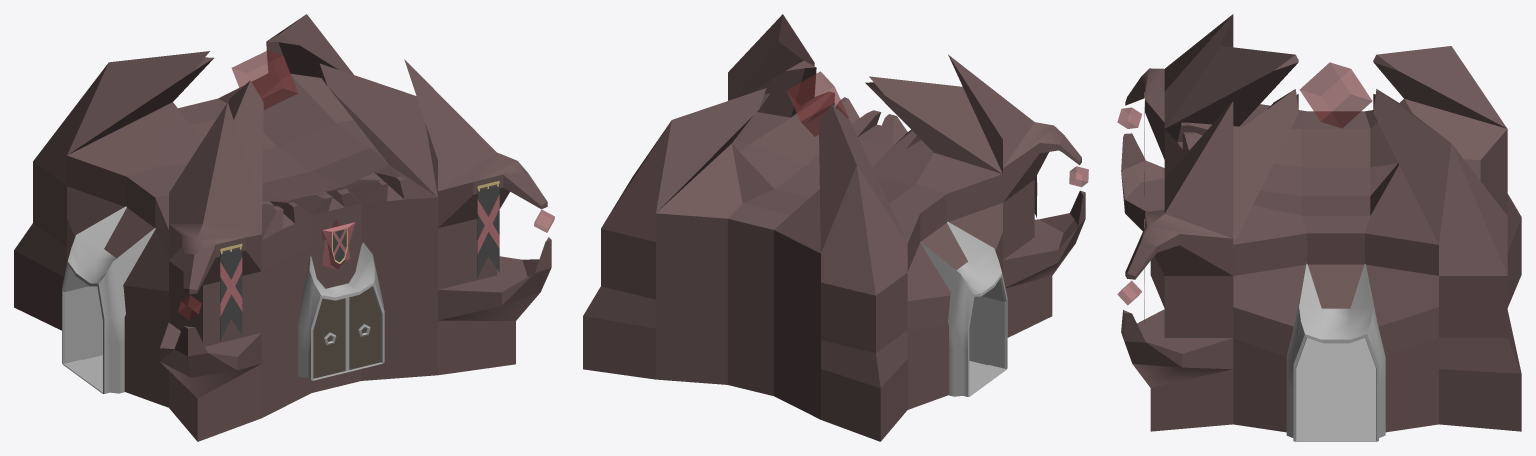
Rendered from castle_red_04.fbx.
3 renders of one model, left to right at view 1: azimuth 30°, elevation 25°; view 2: azimuth 150°, elevation 25°; view 3: azimuth 270°, elevation 25°, orthographic. The views are drawn at different scales.
Parts seen in each view (by area): view 1: pCube113, pCube115, pCube4, pCube5, pCube111, pCube114, pCube108; view 2: pCube113, pCube115, pCube5; view 3: pCube113, pCube103, pCube5, pCube115, pCube116.
Boxes of the visible parts, box(x1,y1,x2,y2) form: pCube113: box(14, 14, 551, 441); pCube115: box(62, 206, 155, 393); pCube4: box(297, 242, 384, 380); pCube5: box(231, 50, 298, 109); pCube111: box(477, 181, 499, 277); pCube114: box(220, 243, 242, 340); pCube108: box(322, 219, 355, 269); pCube113: box(583, 14, 1085, 441); pCube115: box(920, 221, 1007, 396); pCube5: box(786, 71, 848, 136); pCube113: box(1121, 14, 1521, 432); pCube103: box(1286, 263, 1385, 441); pCube5: box(1299, 62, 1372, 128); pCube115: box(1302, 338, 1369, 351); pCube116: box(1117, 107, 1142, 128).
Size of the model in its own units: 5.12 by 3.81 by 4.72.
